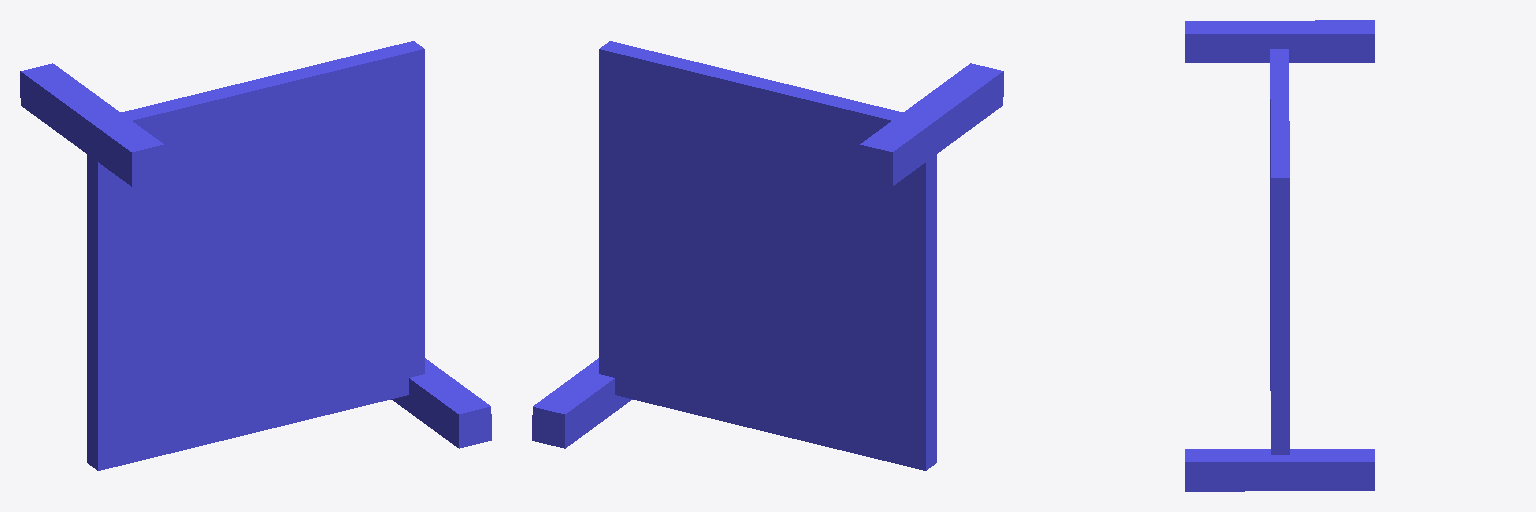
URDF robot description (blocks):
<robot name="blocks">

  <link name="world">
    <inertial>
      <mass value="0"/>
      <inertia ixx="0" ixy="0" ixz="0"
                  iyx="0" iyy="0" iyz="0"
                  izx="0" izy="0" izz="0"/>
    </inertial>
  </link>


  <link name="block">

    <inertial>
      <origin xyz="0 0 0" />
      <mass value="0.1" />
      <inertia  ixx="0.00003375" ixy="0.0"  ixz="0.0"  iyy="0.00003375"  iyz="0.0"  izz="0.00003375" />
    </inertial>

    <visual>
      <origin xyz="0 0 0"/>
      <geometry>
        <box size="0.85 0.85 0.050" />
      </geometry>
      <material name="red">
        <color rgba="0.4 0.4 1.0 1.0"/>
      </material>
    </visual>

    <collision>
      <origin xyz="0 0 0"/>
      <geometry>
        <box size="0.85 0.85 0.050" />
      </geometry>
    </collision>

  </link>


  <link name="stand">
    <inertial>
      <origin xyz="0 0 0" />
      <mass value="0.1" />
      <inertia  ixx="0.00003375" ixy="0.0"  ixz="0.0"  iyy="0.00003375"  iyz="0.0"  izz="0.00003375" />
    </inertial>

    <visual>
      <origin xyz="0 0 0"/>
      <geometry>
        <box size="0.085 0.085 0.50" />
      </geometry>
      <material name="red">
        <color rgba="0.4 0.4 1.0 1.0"/>
      </material>
    </visual>

    <collision>
      <origin xyz="0 0 0"/>
      <geometry>
        <box size="0.085 0.085 0.50" />
      </geometry>
    </collision>

  </link>


  <link name="stand2">
    <inertial>
      <origin xyz="0 0 0" />
      <mass value="0.1" />
      <inertia  ixx="0.00003375" ixy="0.0"  ixz="0.0"  iyy="0.00003375"  iyz="0.0"  izz="0.00003375" />
    </inertial>

    <visual>
      <origin xyz="0 0 0"/>
      <geometry>
        <box size="0.085 0.085 0.50" />
      </geometry>
      <material name="red">
        <color rgba="0.4 0.4 1.0 1.0"/>
      </material>
    </visual>

    <collision>
      <origin xyz="0 0 0"/>
      <geometry>
        <box size="0.085 0.085 0.50" />
      </geometry>
    </collision>

  </link>

  <!-- connect arm to world -->
  <joint name="world_arm_joint" type="prismatic">
    <parent link="world"/>
    <child link="stand"/>
    <axis xyz="0 0 1"/>
    <limit upper="0" lower="-0.8757" velocity="2.0"/>
    <origin rpy="1.57 1.57 0.0" xyz="0 0 0"/>
  </joint>

  <joint name="prismatic_joint" type="prismatic">
    <parent link="stand"/>
    <child link="block"/>
    <axis xyz="0 0 1"/>
    <limit upper="0" lower="-0.8757" velocity="2.0"/>
    <origin rpy="0.0 0.0 0" xyz="0.425 0.425 0"/>

  </joint>
  <joint name="prismatic_joint2" type="fixed">
    <parent link="stand"/>
    <child link="stand2"/>
    <axis xyz="0 0 1"/>
    <origin rpy="0.0 0.0 0" xyz="0.85 0.85 0"/>

  </joint>

</robot>

--- Render facts (derived) ---
The picture shows the robot from 3 angles, left to right: view 1: azimuth 30°, elevation 25°; view 2: azimuth 150°, elevation 25°; view 3: azimuth 270°, elevation 25°; orthographic projection.
Model blocks with 4 links and 3 joints (2 prismatic, 1 fixed), rooted at world, posed all joints at 0.
Links seen in each view (by area): view 1: block, stand, stand2; view 2: block, stand, stand2; view 3: block, stand2, stand.
Link boxes in pixels (bbox=[...]): block: bbox=[87, 41, 424, 470]; stand: bbox=[20, 63, 163, 186]; stand2: bbox=[391, 358, 491, 448]; block: bbox=[599, 41, 936, 470]; stand: bbox=[860, 63, 1003, 186]; stand2: bbox=[532, 358, 632, 448]; block: bbox=[1270, 49, 1289, 454]; stand2: bbox=[1185, 449, 1374, 491]; stand: bbox=[1185, 20, 1374, 62].
Bounding box of the posed robot: 0.9361 × 0.5007 × 0.9344 m (x, y, z).
Geometry: primitives only (box / cylinder / sphere), no mesh files.